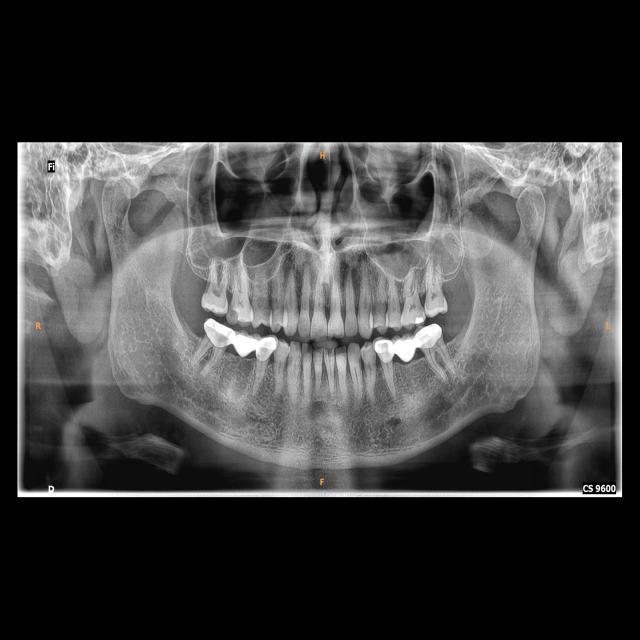dentin-curugu: (228, 306, 239, 322)
dolgu: (411, 313, 426, 327)
kaplama: (202, 315, 236, 352), (412, 326, 445, 349), (253, 336, 279, 362), (374, 337, 396, 366)
kopru: (230, 328, 255, 370), (395, 328, 418, 372)
